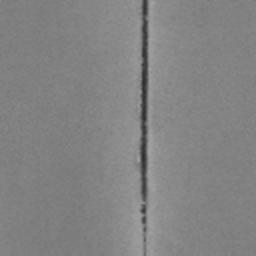Slag inclusion: (140, 0, 150, 256)
